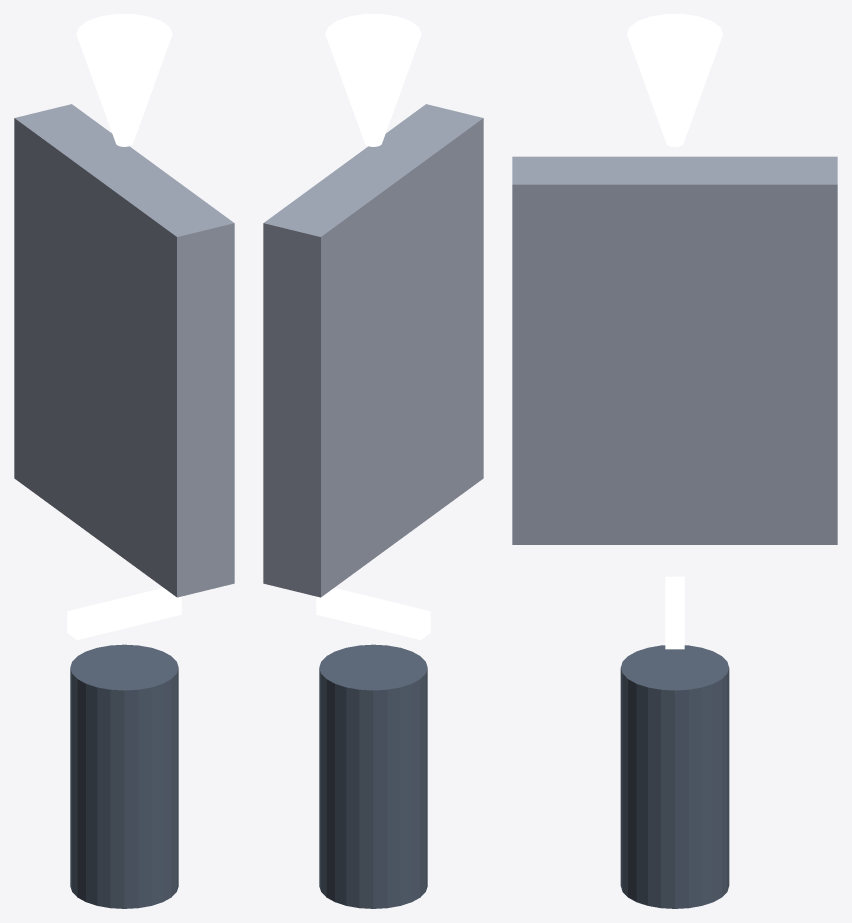
File: kunai.glb
The picture shows the model from 3 angles, left to right: view 1: azimuth 30°, elevation 25°; view 2: azimuth 150°, elevation 25°; view 3: azimuth 270°, elevation 25°; orthographic projection.
Visible parts, largest first — view 1: blade, grip, tip_mark, guard; view 2: blade, grip, tip_mark, guard; view 3: blade, grip, tip_mark, guard.
Part boxes in pixels (x1=…): blade: x1=14, y1=104, x2=234, y2=597; grip: x1=70, y1=644, x2=178, y2=908; tip_mark: x1=76, y1=14, x2=172, y2=146; guard: x1=67, y1=588, x2=181, y2=639; blade: x1=263, y1=104, x2=483, y2=597; grip: x1=319, y1=644, x2=427, y2=908; tip_mark: x1=325, y1=14, x2=421, y2=146; guard: x1=316, y1=588, x2=430, y2=639; blade: x1=512, y1=156, x2=837, y2=544; grip: x1=620, y1=645, x2=729, y2=908; tip_mark: x1=627, y1=14, x2=722, y2=146; guard: x1=665, y1=576, x2=684, y2=649.
Size of the model in its own units: 0.1 by 0.78 by 0.27.
